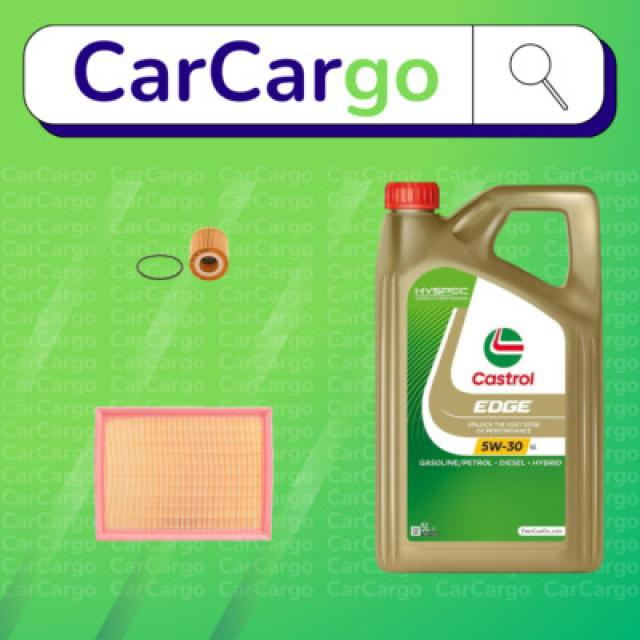air_filter: (92, 401, 280, 545)
motor_oil: (371, 176, 608, 574)
oil_filter: (135, 227, 244, 286)
